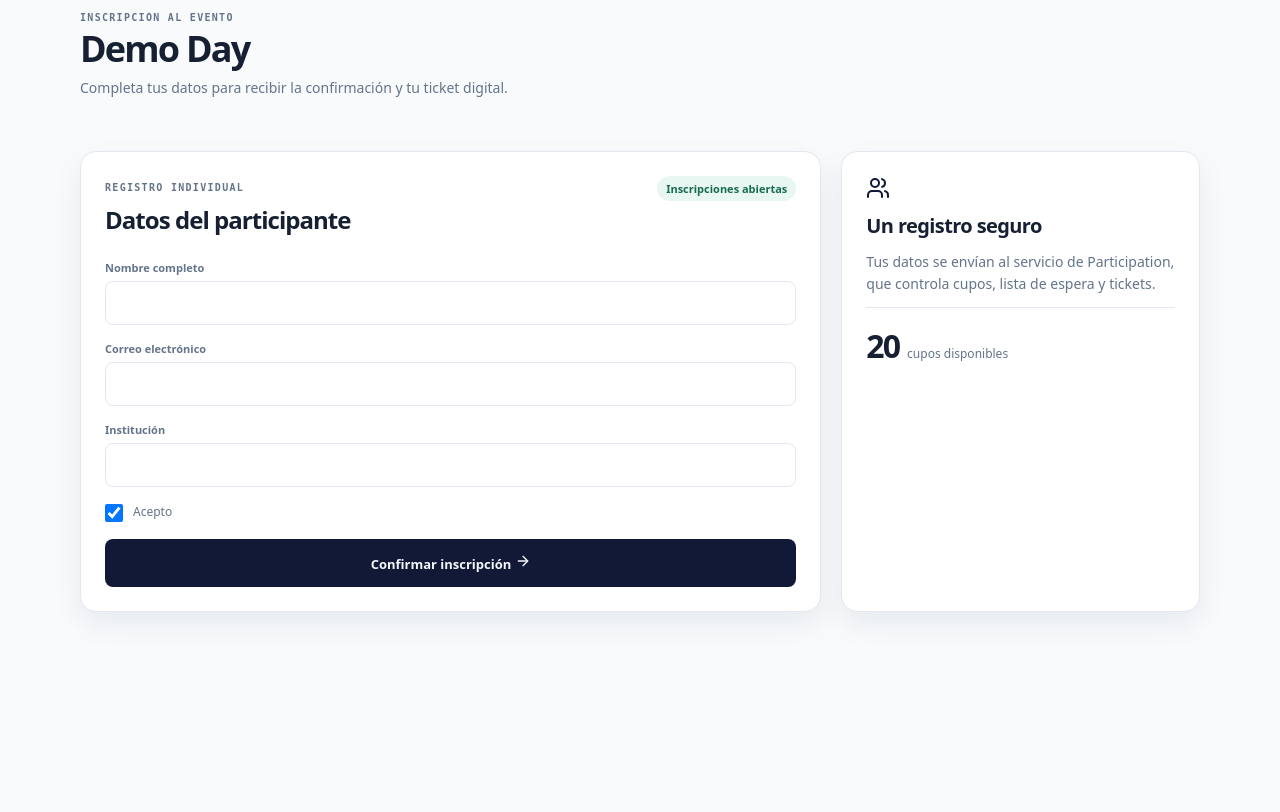
Test: ParticipationModule › renders the public form and confirms a registration
This screenshot has width=1280, height=812.
Type "Ana Lima" into the field labelled "Nombre completo". click: (451,303)
box: [105,281,796,325]
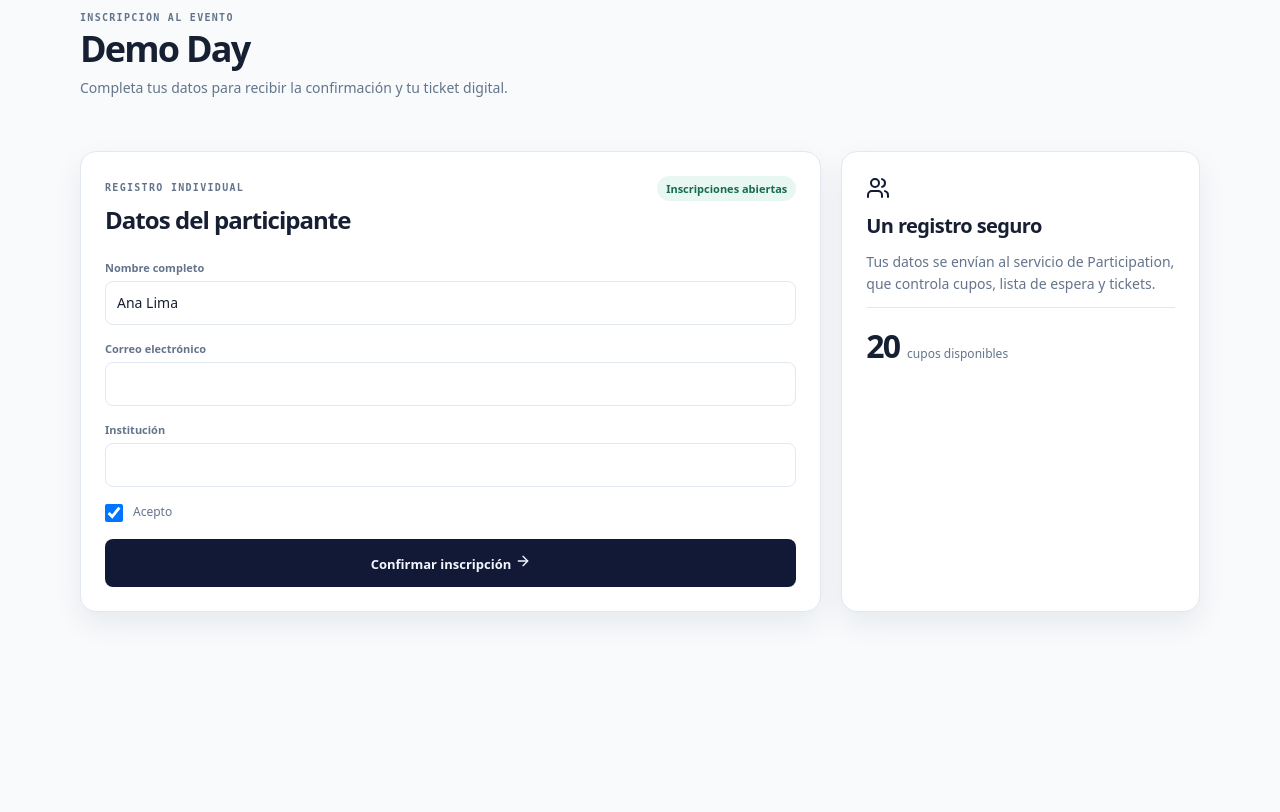
Type "ana@example.com" into the field labelled "Correo electrónico". click: (451,384)
box: [105,362,796,406]
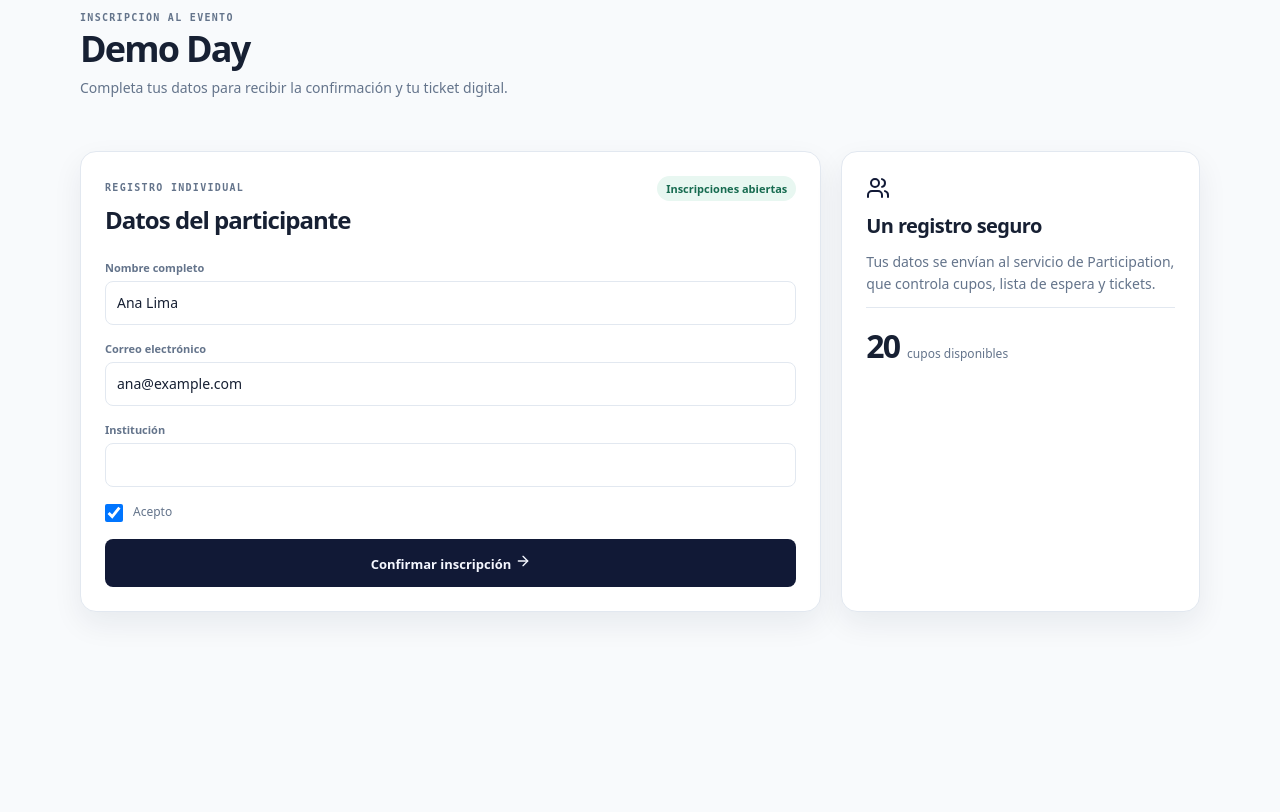
Submit the form, box [105,260,796,587]
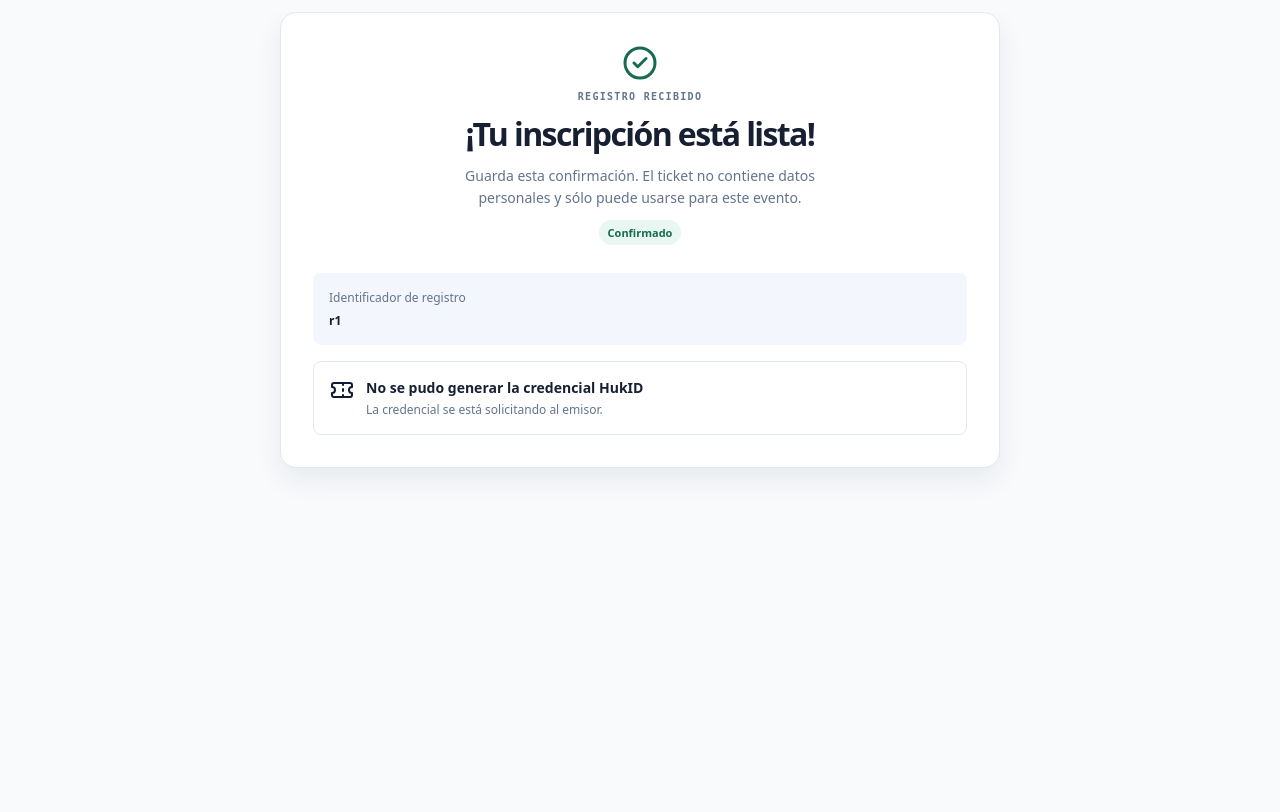
Expected: the text "¡Tu inscripción está lista!" is shown, [466,112,814,155]
